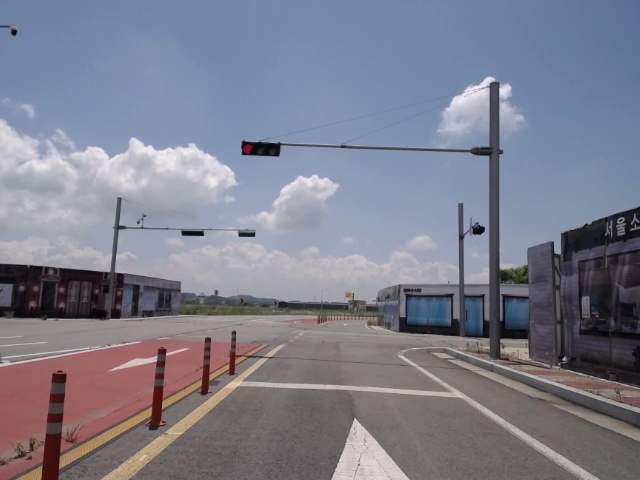red_3: (239, 142, 282, 156)
